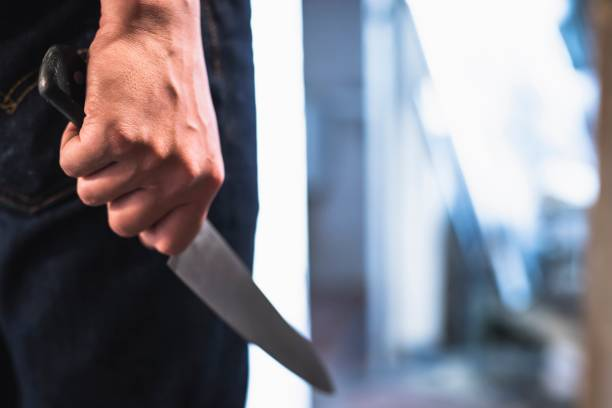knife: (37, 45, 333, 394)
